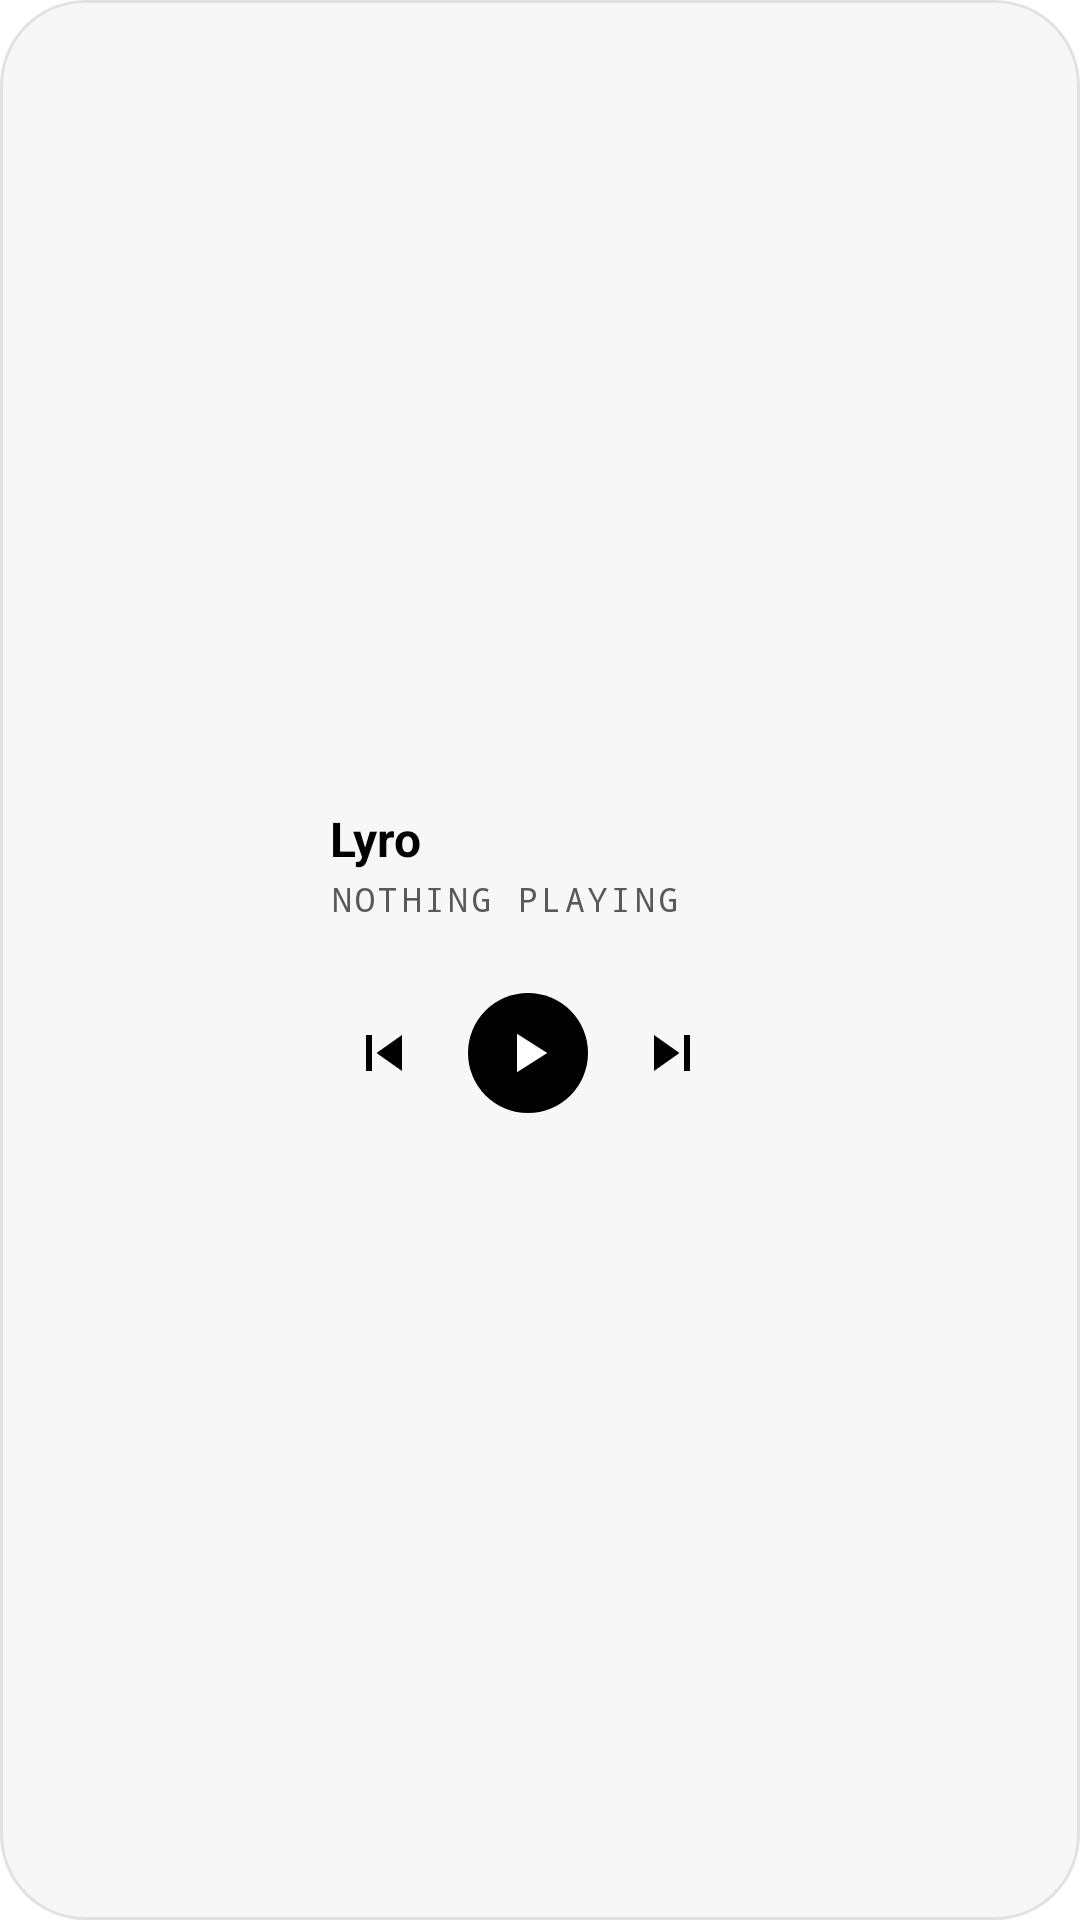

Icons on this 1080w x 1920h Android screen, each with its box as (x1, y1, x2, y2):
Next: (654, 1035, 690, 1071)
Previous: (366, 1035, 402, 1071)
